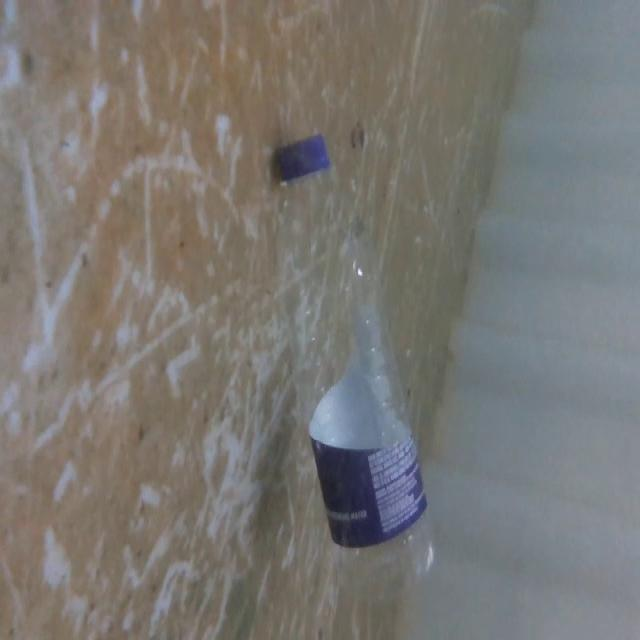plastic bottle: (262, 133, 473, 594)
